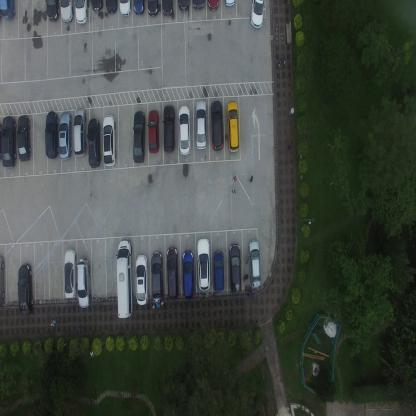car: (115, 238, 134, 317), (17, 264, 34, 316), (1, 114, 17, 169), (101, 114, 117, 168), (209, 99, 225, 152), (86, 118, 102, 169), (226, 100, 241, 153), (177, 104, 192, 156), (132, 109, 146, 164), (73, 106, 88, 157), (196, 237, 210, 291), (76, 258, 91, 308), (58, 110, 73, 160), (135, 254, 149, 307), (44, 110, 59, 159), (181, 249, 195, 301), (63, 248, 77, 300), (17, 114, 32, 162), (150, 250, 163, 305), (229, 243, 242, 297), (248, 238, 261, 289), (162, 103, 175, 154), (166, 248, 178, 300), (195, 99, 206, 151), (148, 108, 160, 154), (212, 250, 225, 292), (249, 0, 266, 30), (74, 0, 89, 26), (0, 0, 16, 22), (60, 0, 74, 25), (45, 0, 60, 22), (146, 0, 160, 19), (0, 255, 5, 308), (118, 0, 132, 18), (161, 0, 175, 18), (90, 0, 104, 15), (133, 0, 147, 15), (106, 0, 118, 14), (206, 0, 220, 12), (177, 0, 190, 12), (191, 0, 205, 10), (224, 0, 236, 9)
